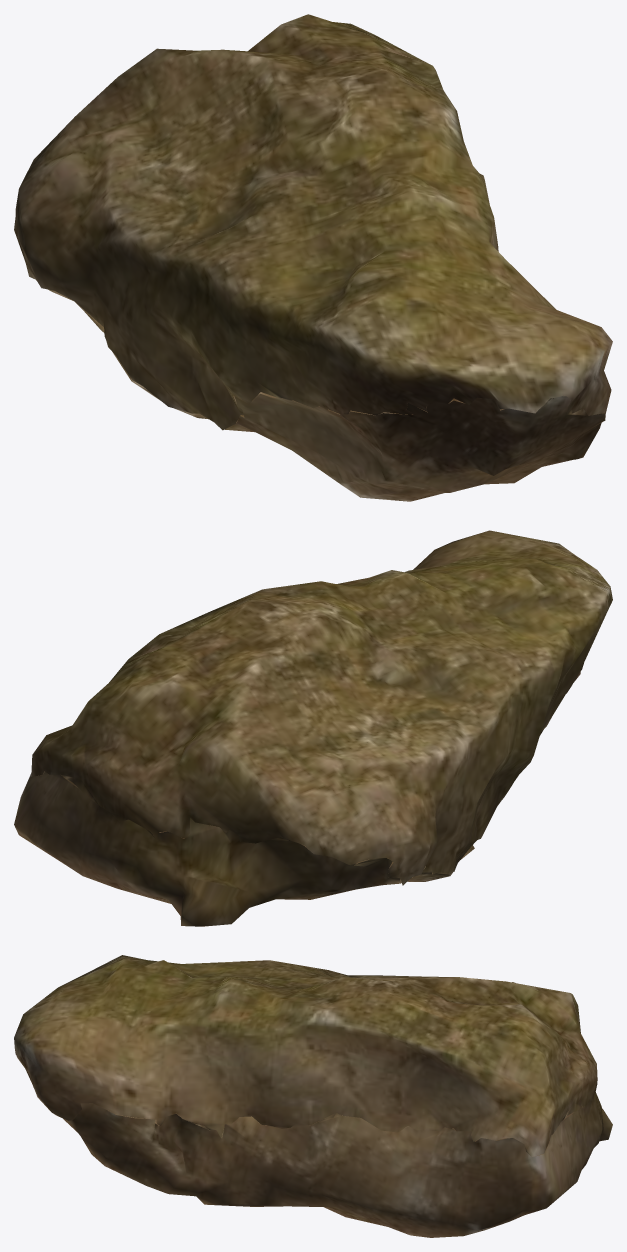
Rendered from rock_moss_set_01_4.glb.
3 renders of one model, top to bottom at view 1: azimuth 30°, elevation 25°; view 2: azimuth 150°, elevation 25°; view 3: azimuth 270°, elevation 25°, orthographic. The views are drawn at different scales.
Parts seen in each view (by area): view 1: rock_moss_set_01_rock05; view 2: rock_moss_set_01_rock05; view 3: rock_moss_set_01_rock05.
Part boxes in pixels (x1,y1,x2,y2): rock_moss_set_01_rock05: (14,14,612,501); rock_moss_set_01_rock05: (14,530,612,926); rock_moss_set_01_rock05: (14,955,612,1237).
Bounding box in the file's own units: 1.82 × 1.21 × 2.99.
1 material, 1 textured.
